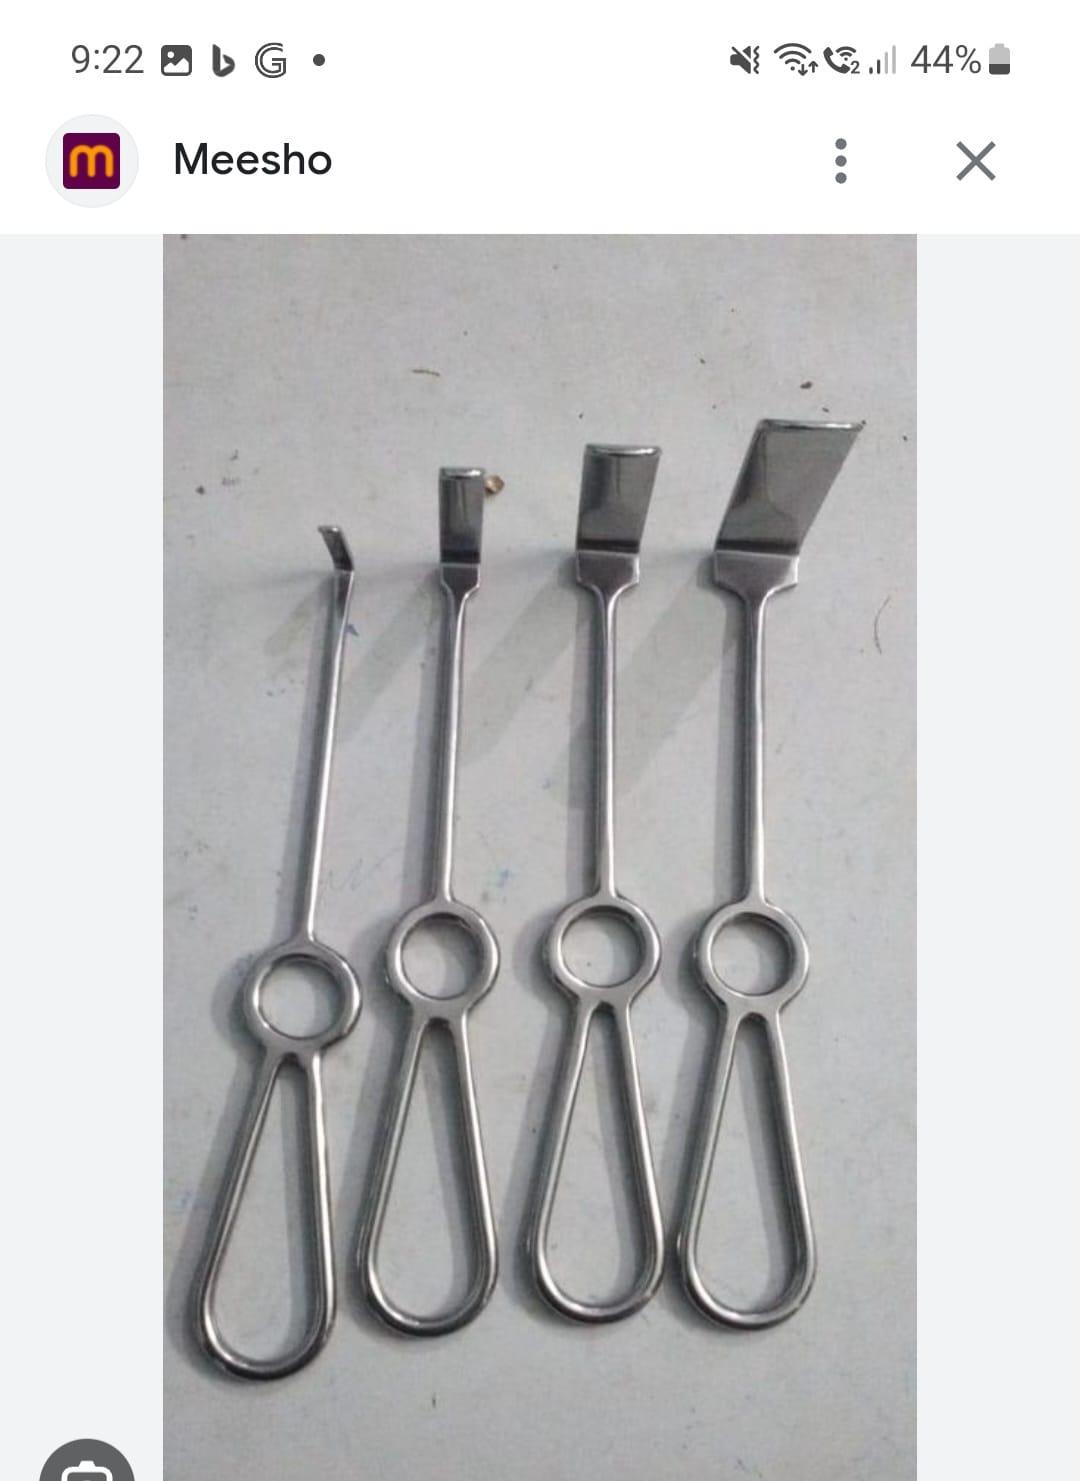Langenbach Retractor: (678, 410, 880, 1330), (522, 427, 692, 1330), (357, 457, 508, 1332)
